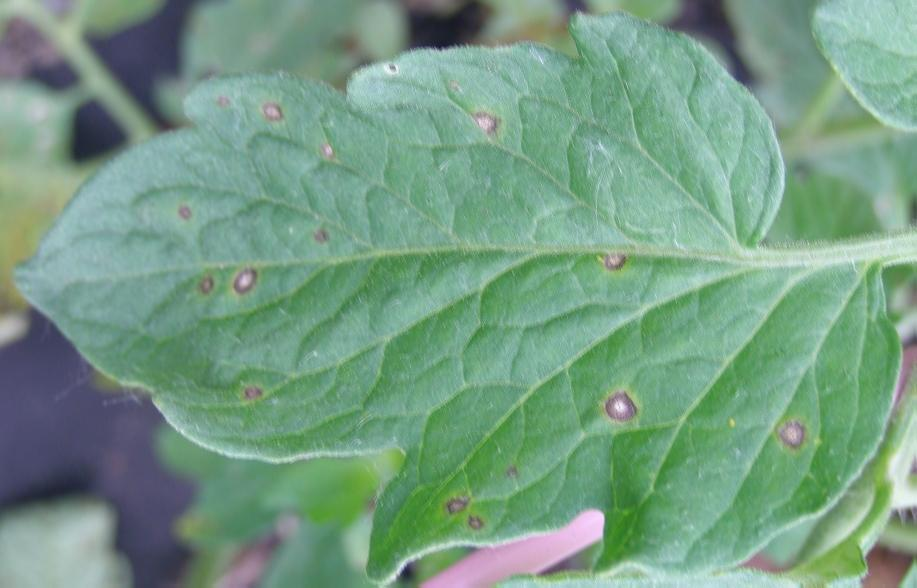Tomato leaf bacterial spot: (10, 24, 901, 586)
